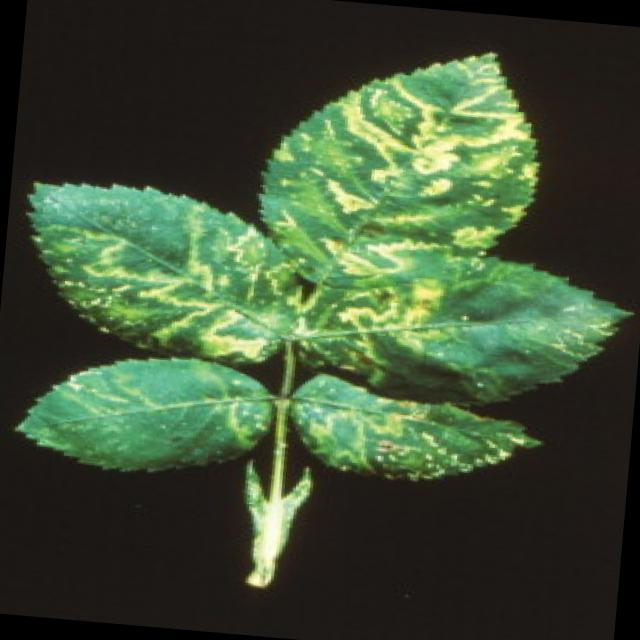Mosaic Virus: (270, 28, 540, 302), (286, 256, 620, 402), (38, 178, 294, 345), (14, 344, 272, 479), (280, 377, 555, 502)
